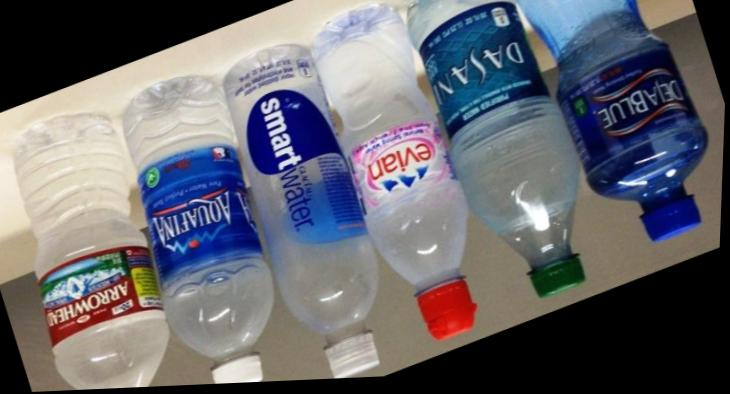plastic: (203, 45, 378, 383), (313, 5, 475, 340), (409, 0, 584, 310), (2, 113, 169, 390), (124, 76, 273, 383), (518, 0, 707, 240)
